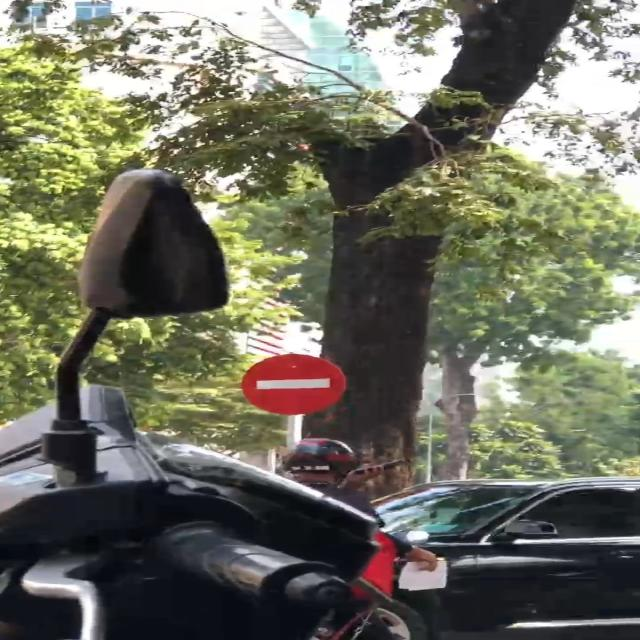Bien bao cam di nguoc chieu: (238, 350, 356, 418)
